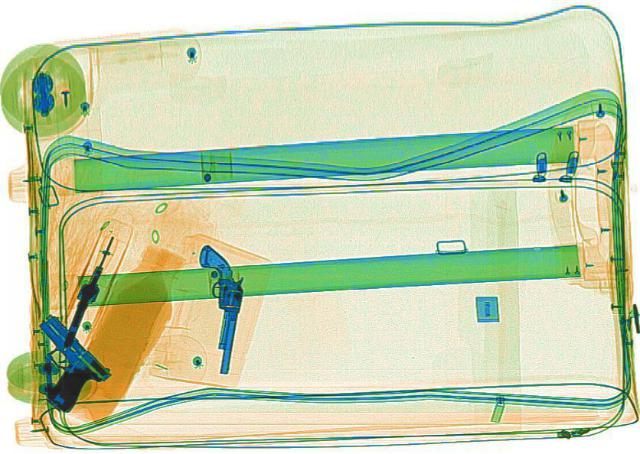Gun: (11, 307, 119, 410), (187, 241, 261, 372), (56, 231, 122, 348)
